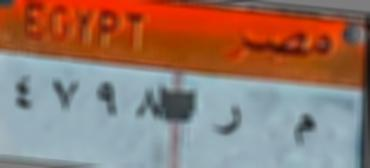4: (10, 76, 44, 114)
7: (52, 76, 83, 117)
8: (133, 81, 162, 124)
9: (92, 76, 120, 114)
meem: (283, 104, 326, 156)
raa: (208, 96, 253, 143)
